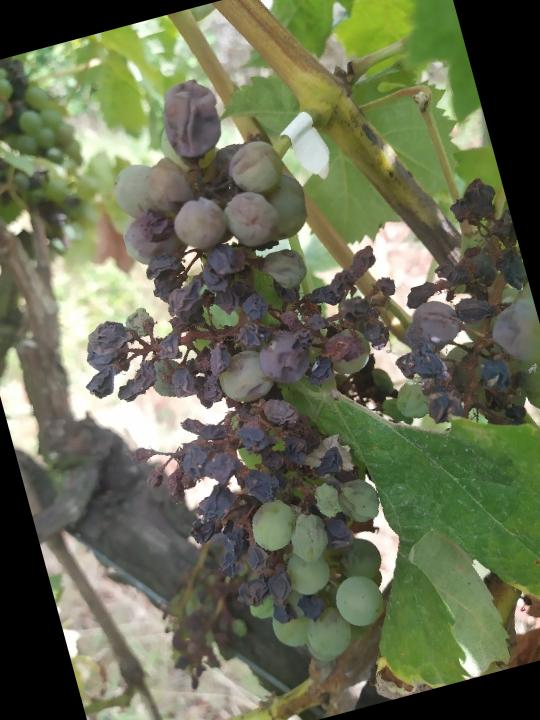grape: (11, 39, 488, 707)
